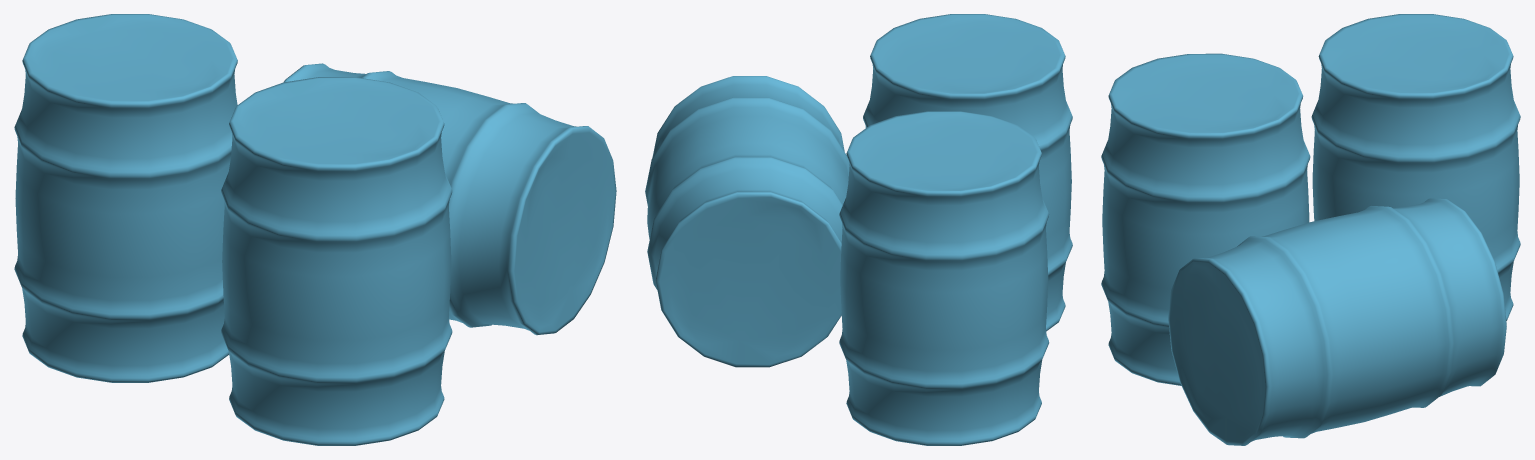
File: test_barrel 1.fbx
3 views of the same model, side by side, from view 1: azimuth 30°, elevation 25°; view 2: azimuth 150°, elevation 25°; view 3: azimuth 270°, elevation 25° (orthographic). The views are drawn at different scales.
Visible parts, largest first — view 1: barrel; view 2: barrel; view 3: barrel.
Boxes of the visible parts, bbox=[...] form: barrel: bbox=[14, 14, 616, 445]; barrel: bbox=[645, 14, 1072, 445]; barrel: bbox=[1101, 14, 1520, 445].
Bounding box in the file's own units: 187 × 99.31 × 149.
1 material, 1 textured.
